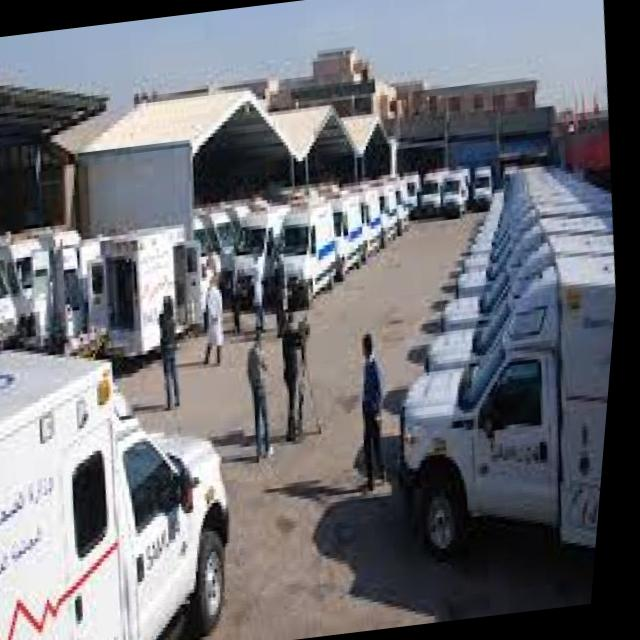ambulance: (0, 296, 278, 640), (385, 258, 623, 584), (78, 212, 239, 372), (262, 189, 359, 323)
